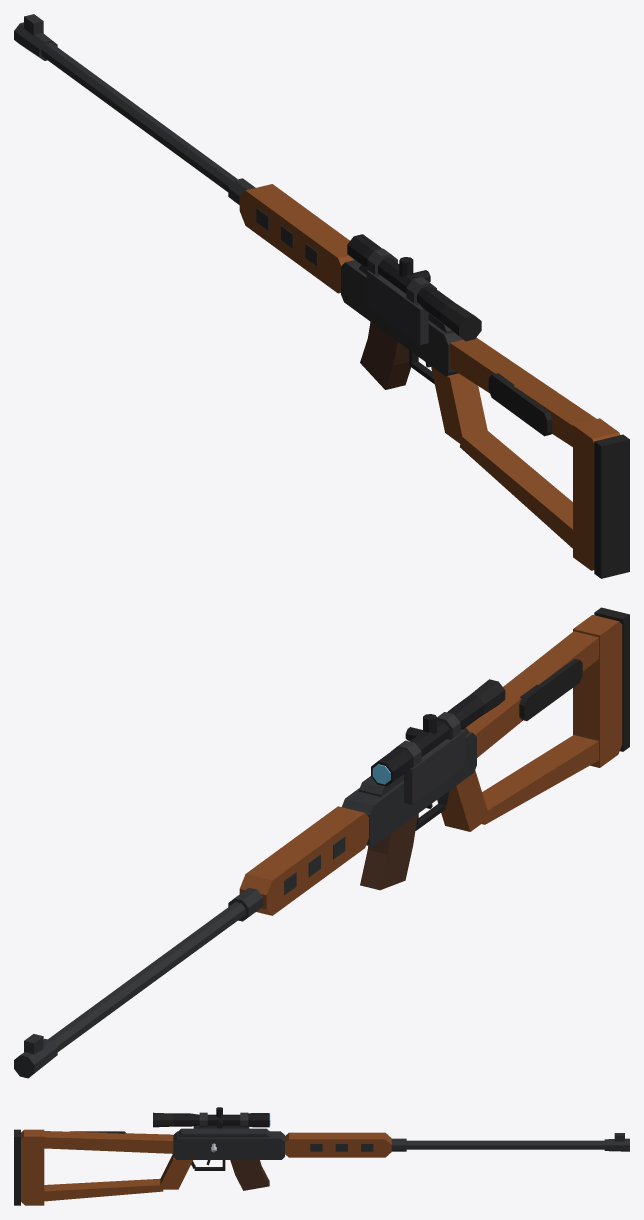
Rendered from Cobra.obj.
3 views of the same model, one above another, from view 1: azimuth 30°, elevation 25°; view 2: azimuth 150°, elevation 25°; view 3: azimuth 270°, elevation 25° (orthographic). The views are drawn at different scales.
Parts seen in each view (by area): view 1: Stock, Pad, Handguard, Body, Barrel, Mount, Scope, Magazine, Muzzle; view 2: Stock, Handguard, Body, Barrel, Pad, Mount, Scope, Magazine, Muzzle; view 3: Stock, Body, Handguard, Barrel, Scope, Pad, Magazine, Mount, Muzzle, Trigger.
Boxes of the visible parts, <box> form: Stock: <box>431,337,620,570</box>; Pad: <box>440,303,629,578</box>; Handguard: <box>239,184,354,293</box>; Body: <box>228,178,462,376</box>; Barrel: <box>41,42,237,191</box>; Mount: <box>366,248,436,344</box>; Scope: <box>347,234,454,322</box>; Magazine: <box>360,322,410,389</box>; Muzzle: <box>14,14,57,60</box>; Stock: <box>437,615,622,831</box>; Handguard: <box>239,806,368,915</box>; Body: <box>228,727,476,921</box>; Barrel: <box>48,902,245,1051</box>; Pad: <box>470,607,629,751</box>; Mount: <box>391,712,465,804</box>; Scope: <box>371,695,484,786</box>; Magazine: <box>360,814,417,890</box>; Muzzle: <box>14,1034,57,1078</box>; Stock: <box>21,1129,192,1205</box>; Body: <box>173,1128,406,1159</box>; Handguard: <box>285,1132,391,1157</box>; Barrel: <box>406,1140,604,1149</box>; Scope: <box>173,1107,269,1128</box>; Pad: <box>14,1112,173,1205</box>; Magazine: <box>230,1160,269,1190</box>; Mount: <box>193,1112,249,1128</box>; Muzzle: <box>604,1133,629,1151</box>; Trigger: <box>191,1160,225,1170</box>.
Bounding box in the file's own units: 0.3472 × 0.985 × 6.07.
